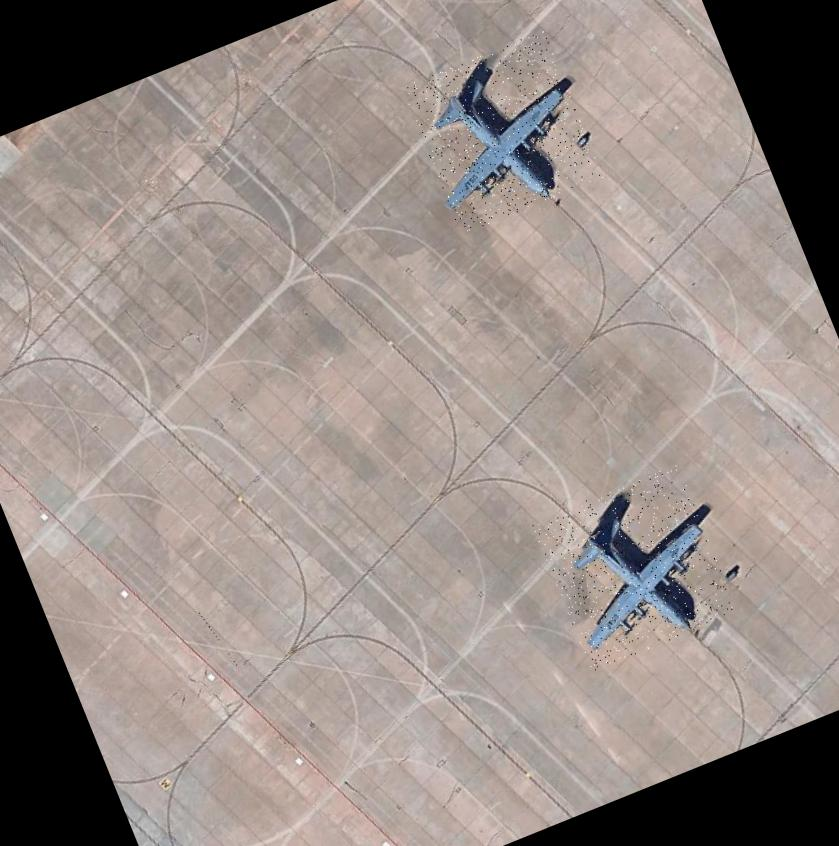A2: (530, 464, 737, 672), (401, 30, 602, 235)
